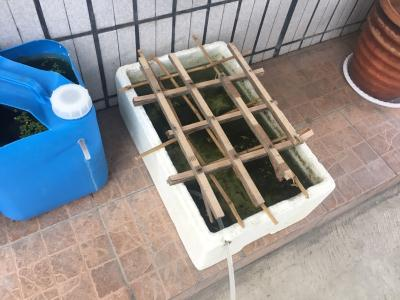bucket: (1, 36, 112, 225)
plate: (342, 51, 400, 108)
styrofoam: (113, 40, 339, 274)
